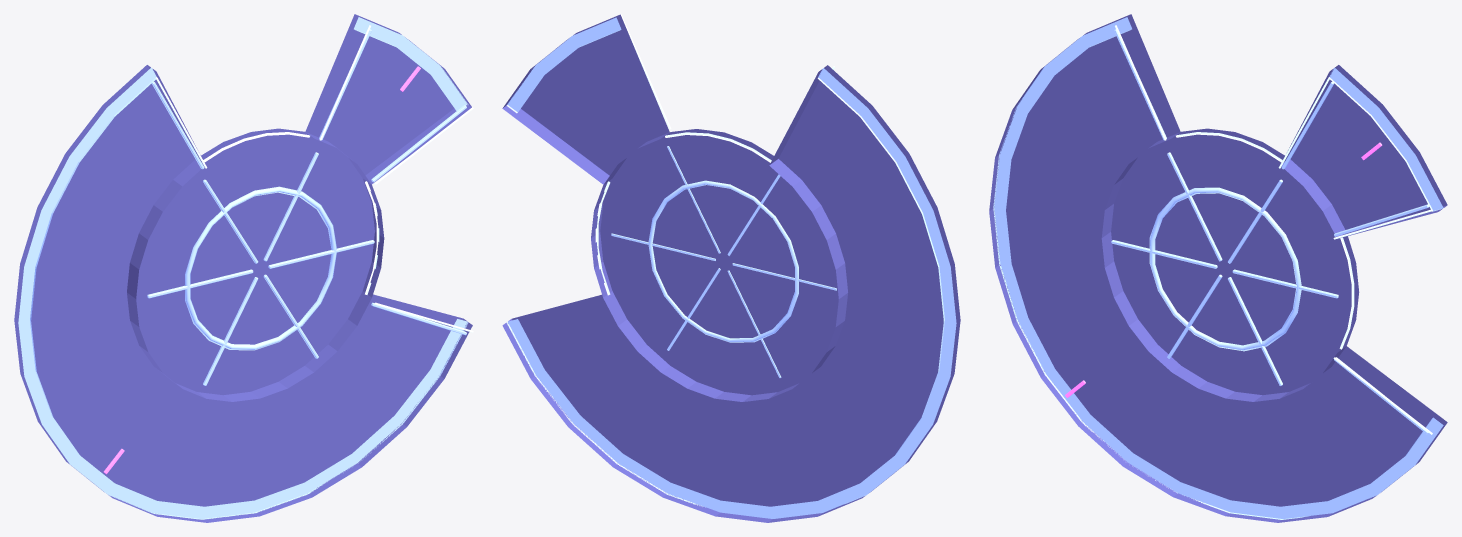
Rendered from prism-panel-fun5-low.glb.
The picture shows the model from 3 angles, left to right: view 1: azimuth 30°, elevation 25°; view 2: azimuth 150°, elevation 25°; view 3: azimuth 330°, elevation 25°; orthographic projection.
Parts seen in each view (by area): view 1: RENDER_PANEL_SHELL, RENDER_PANEL_FRAME, RENDER_PANEL_SIGNAL; view 2: RENDER_PANEL_SHELL, RENDER_PANEL_FRAME, RENDER_PANEL_SIGNAL; view 3: RENDER_PANEL_SHELL, RENDER_PANEL_FRAME, RENDER_PANEL_SIGNAL.
Part boxes in pixels (<box>): RENDER_PANEL_SHELL: <box>14,14,472,522</box>; RENDER_PANEL_FRAME: <box>18,17,468,519</box>; RENDER_PANEL_SIGNAL: <box>155,25,473,332</box>; RENDER_PANEL_SHELL: <box>502,14,960,522</box>; RENDER_PANEL_FRAME: <box>506,17,956,518</box>; RENDER_PANEL_SIGNAL: <box>595,14,834,295</box>; RENDER_PANEL_SHELL: <box>989,14,1447,522</box>; RENDER_PANEL_FRAME: <box>993,17,1443,519</box>; RENDER_PANEL_SIGNAL: <box>1115,25,1432,434</box>.
Size of what is drawn, in the model's own units: 38.93 by 38.93 by 1.95.
